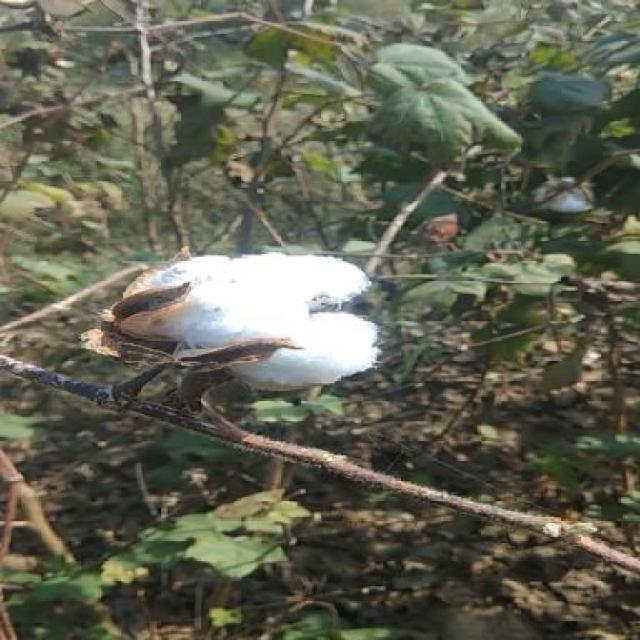cotton_ready: (110, 241, 398, 445)
